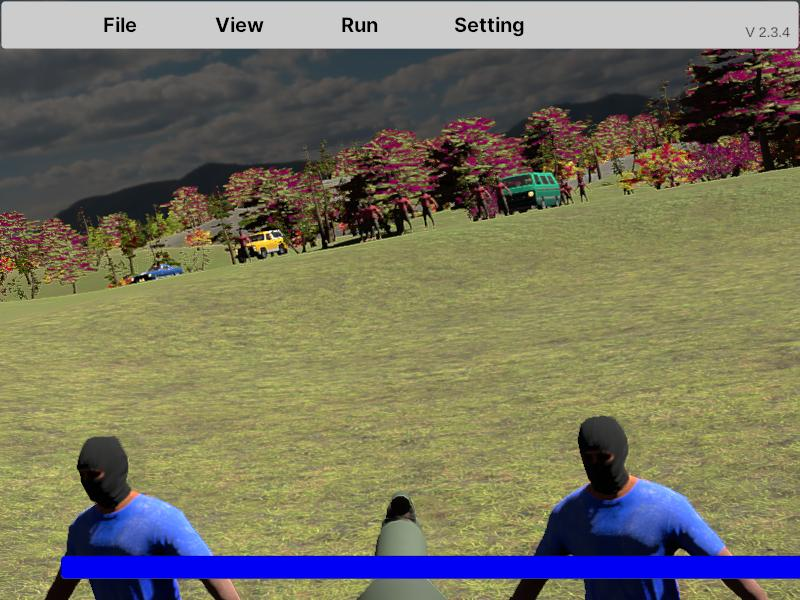Human: (502, 414, 782, 599), (19, 432, 257, 600)
car: (497, 171, 561, 213), (240, 230, 288, 261)
